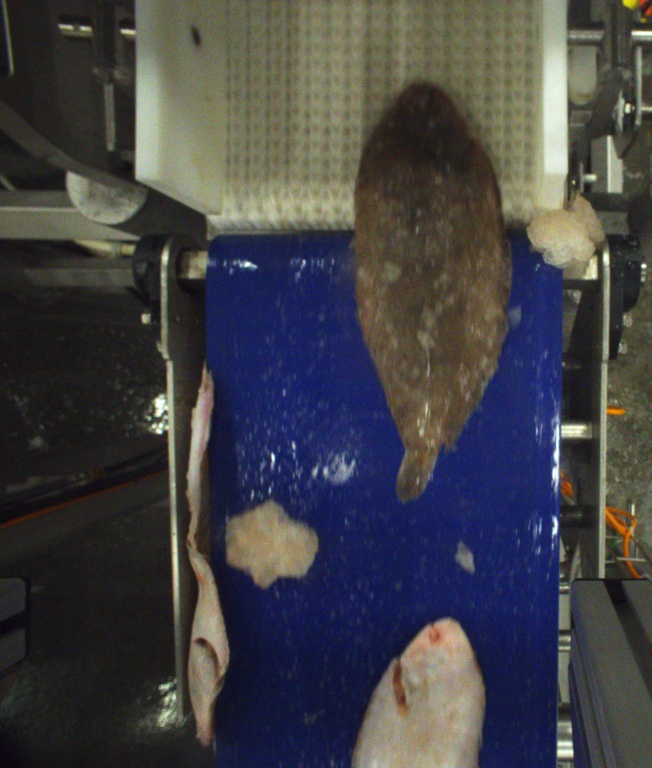SOL: (355, 79, 514, 500)
